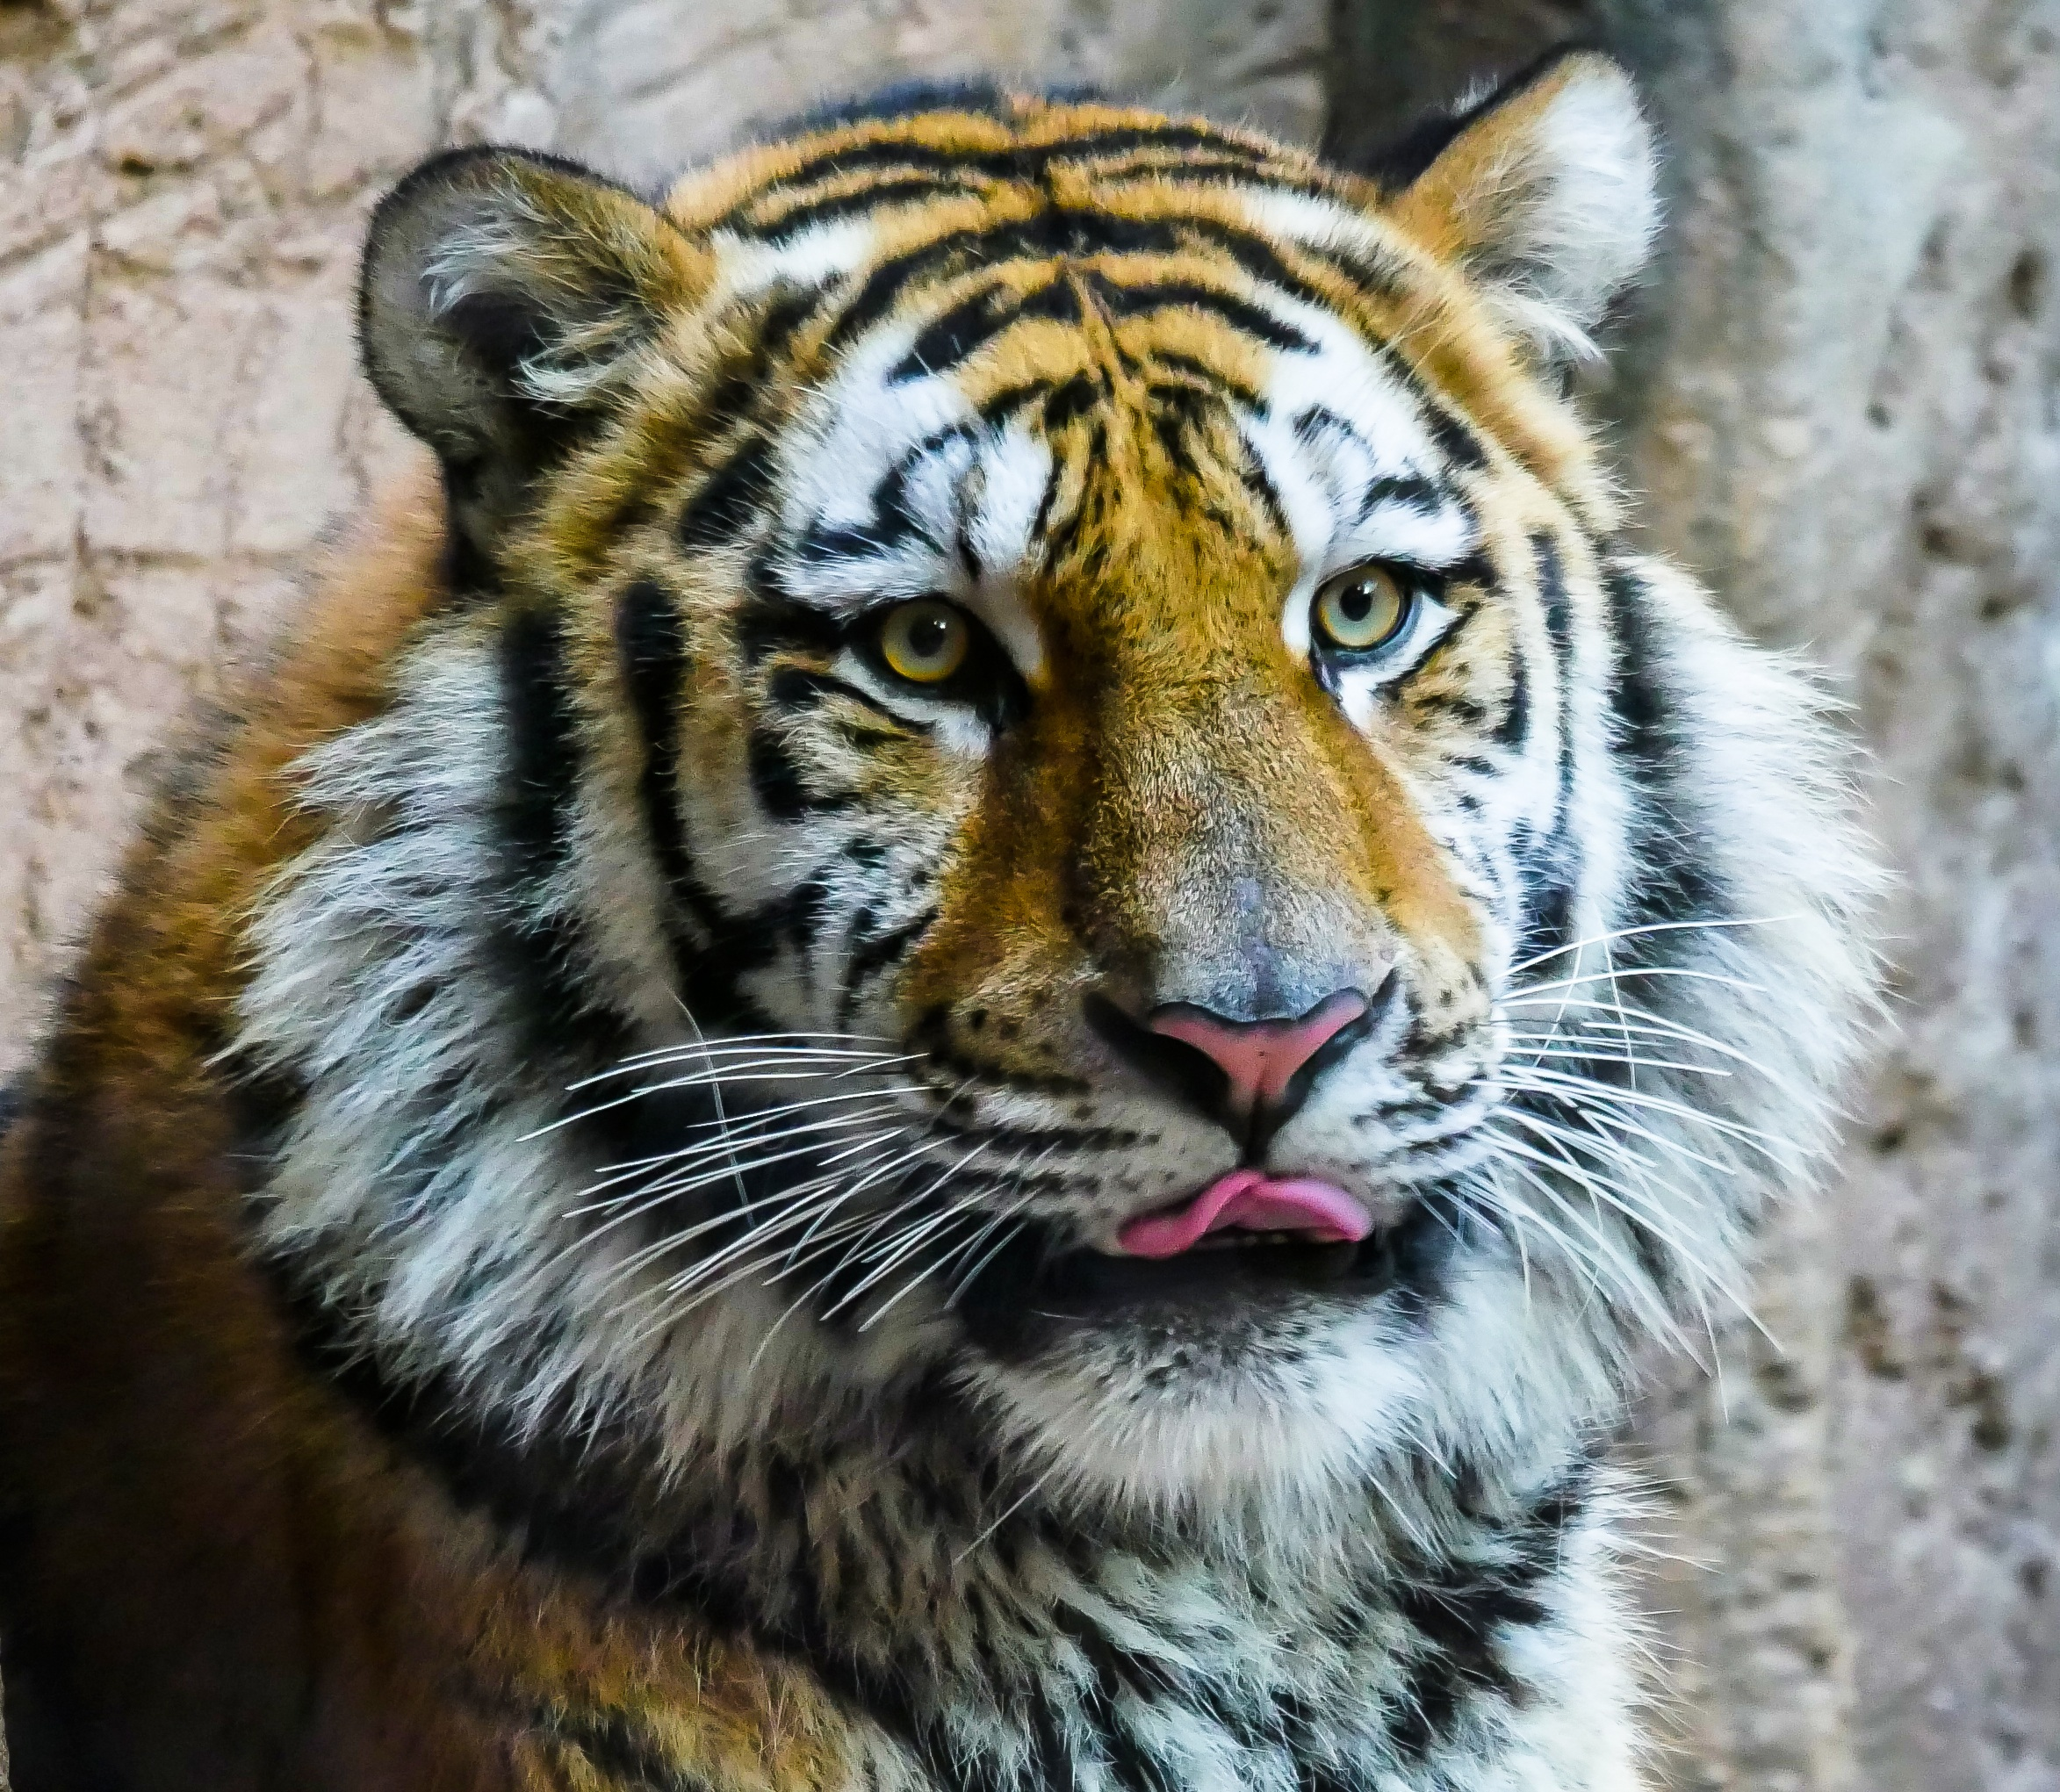tiger: (196, 61, 1869, 1715)
